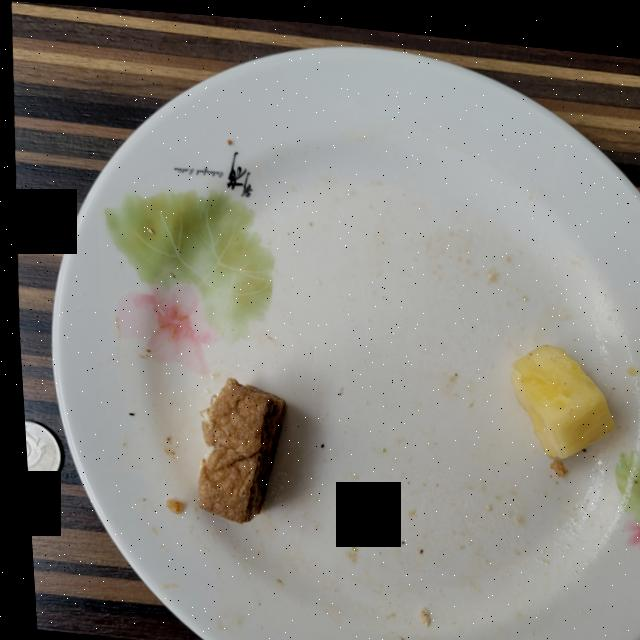coin: (20, 420, 54, 486)
egg tofu: (192, 375, 281, 519)
pineapple: (506, 336, 609, 449)
